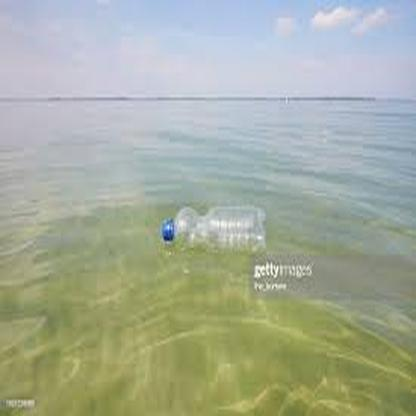plastic bottle: (161, 205, 268, 256)
